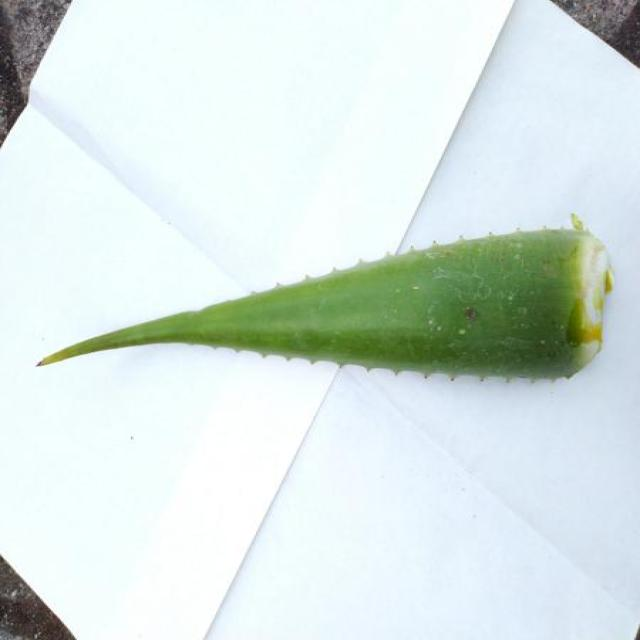alovera: (38, 219, 612, 378)
